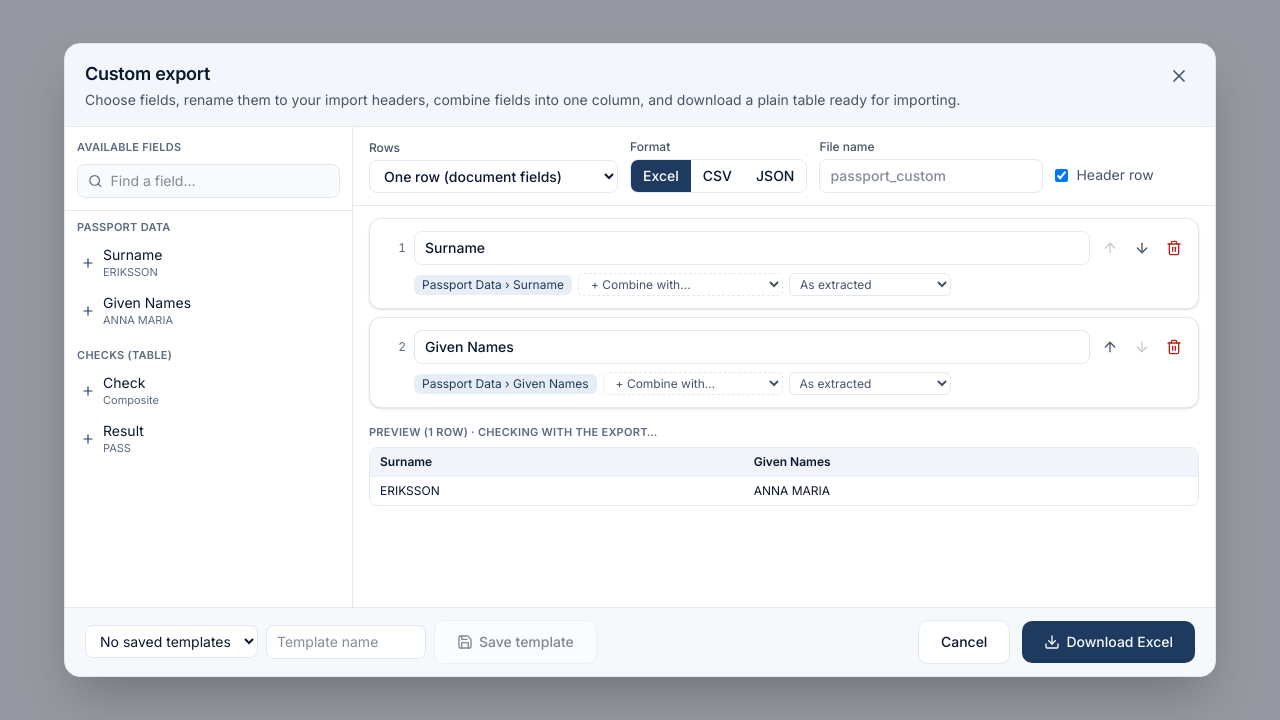
Test: CustomExportDialog › blocks duplicate labels, which an importer can't map
This screenshot has width=1280, height=720.
Replace the text in the field named "Column 2 label" with "Surname" at (752, 347), box [414,330,1090,364]
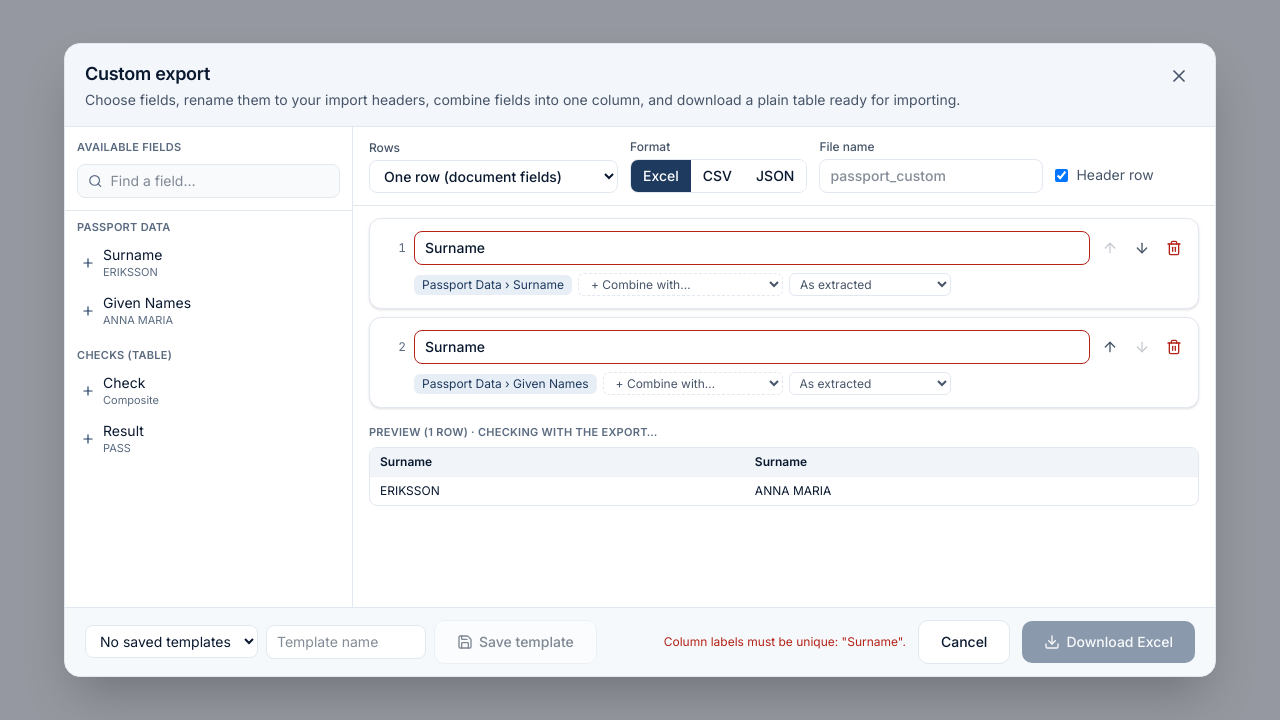
Now the message shows "unique", box [664,634,906,649]
Now the button with test id "custom-export-download" is disabled, box [1022,621,1195,663]
